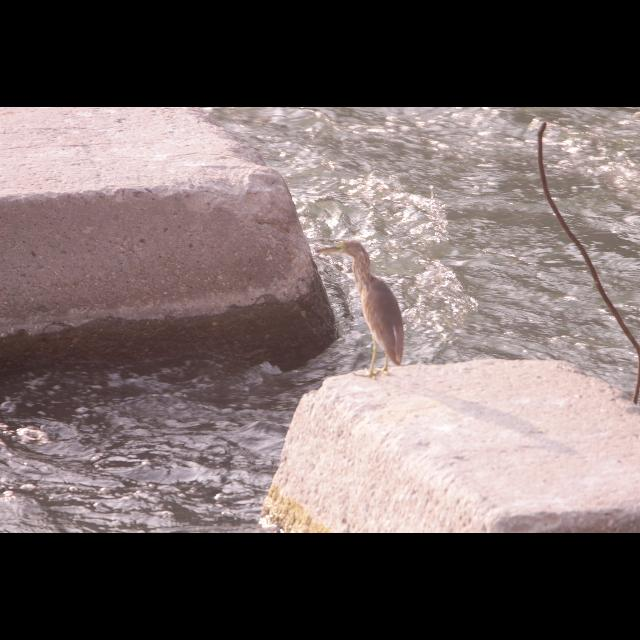heron: (313, 234, 415, 378)
